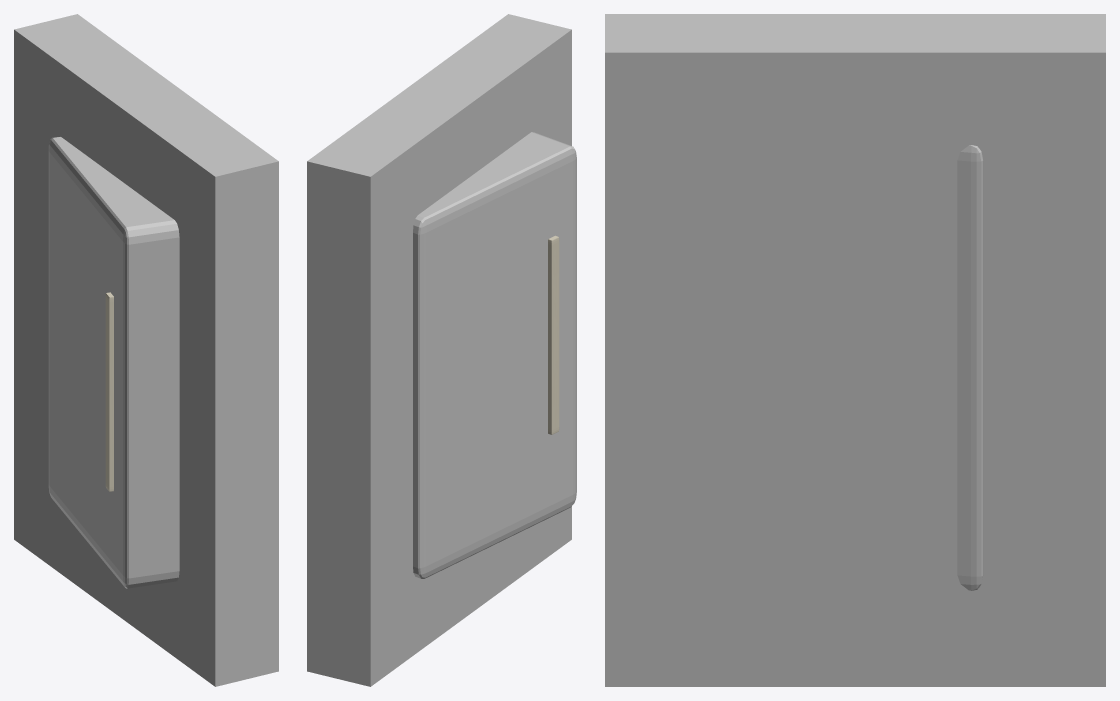
Rendered from 6. 전등스위치.fbx.
The picture shows the model from 3 angles, left to right: view 1: azimuth 30°, elevation 25°; view 2: azimuth 150°, elevation 25°; view 3: azimuth 270°, elevation 25°; orthographic projection. The views are drawn at different scales.
Parts seen in each view (by area): view 1: 전등스위치; view 2: 전등스위치; view 3: 전등스위치.
Boxes of the visible parts, left/top/right/bottom form: 전등스위치: left=14, top=14, right=278, bottom=686; 전등스위치: left=307, top=14, right=576, bottom=686; 전등스위치: left=605, top=14, right=1105, bottom=686.
Bounding box in the file's own units: 7.53 × 32.5 × 23.25.
